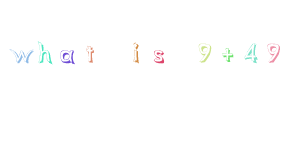+: (221, 46, 234, 63)
4: (243, 40, 258, 64)
9: (196, 41, 212, 64), (265, 41, 280, 64)
a: (59, 48, 76, 65)
h: (36, 39, 53, 65)
i: (130, 42, 141, 63)
s: (152, 48, 165, 64)
t: (84, 45, 96, 65)
w: (8, 47, 34, 65)
